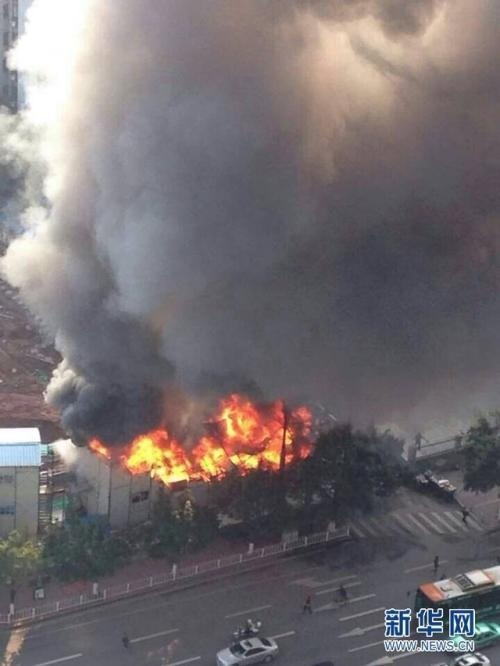fire: (104, 393, 315, 483)
